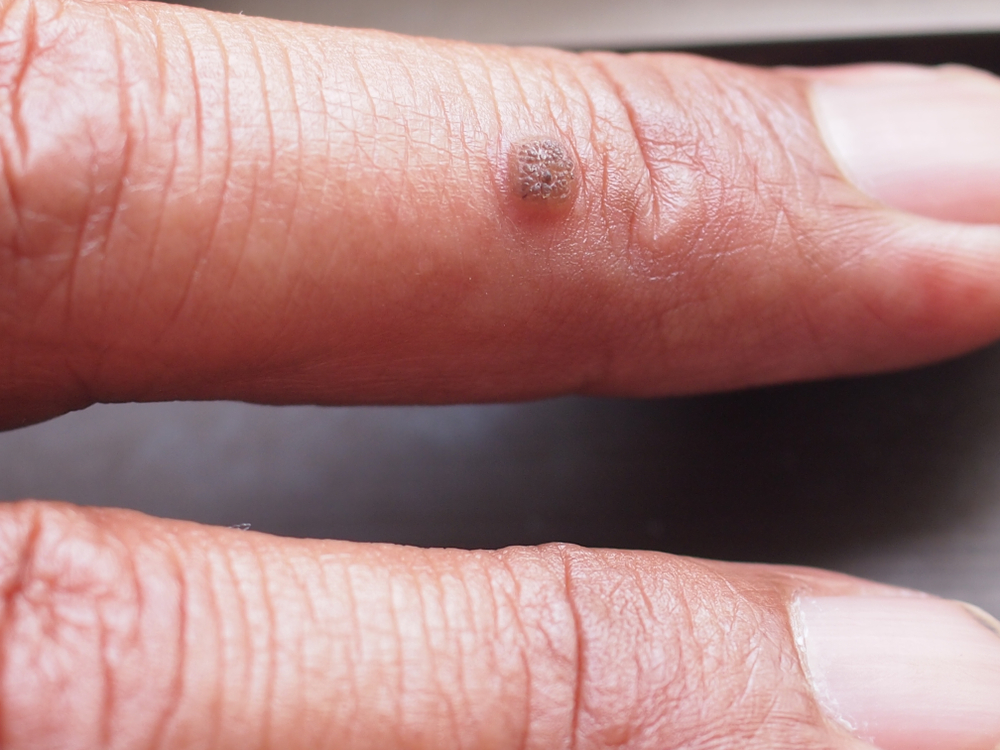Wart: (477, 127, 607, 228)
